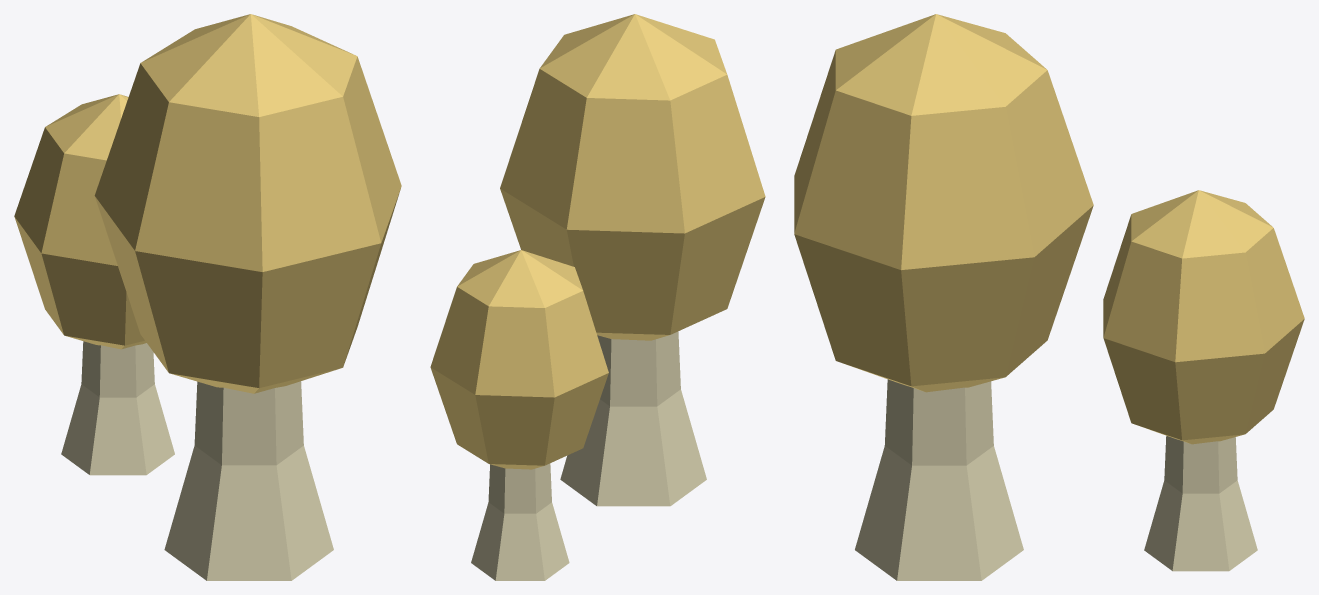
File: Yellow_mushroom.fbx
The picture shows the model from 3 angles, left to right: view 1: azimuth 30°, elevation 25°; view 2: azimuth 150°, elevation 25°; view 3: azimuth 270°, elevation 25°; orthographic projection. The views are drawn at different scales.
Parts seen in each view (by area): view 1: Yellow_mushroom; view 2: Yellow_mushroom; view 3: Yellow_mushroom.
Part boxes in pixels (left/top/right/bottom): Yellow_mushroom: left=14, top=14, right=401, bottom=580; Yellow_mushroom: left=430, top=14, right=765, bottom=580; Yellow_mushroom: left=794, top=14, right=1304, bottom=580.
Size of the model in its own units: 85.68 by 165 by 142.
